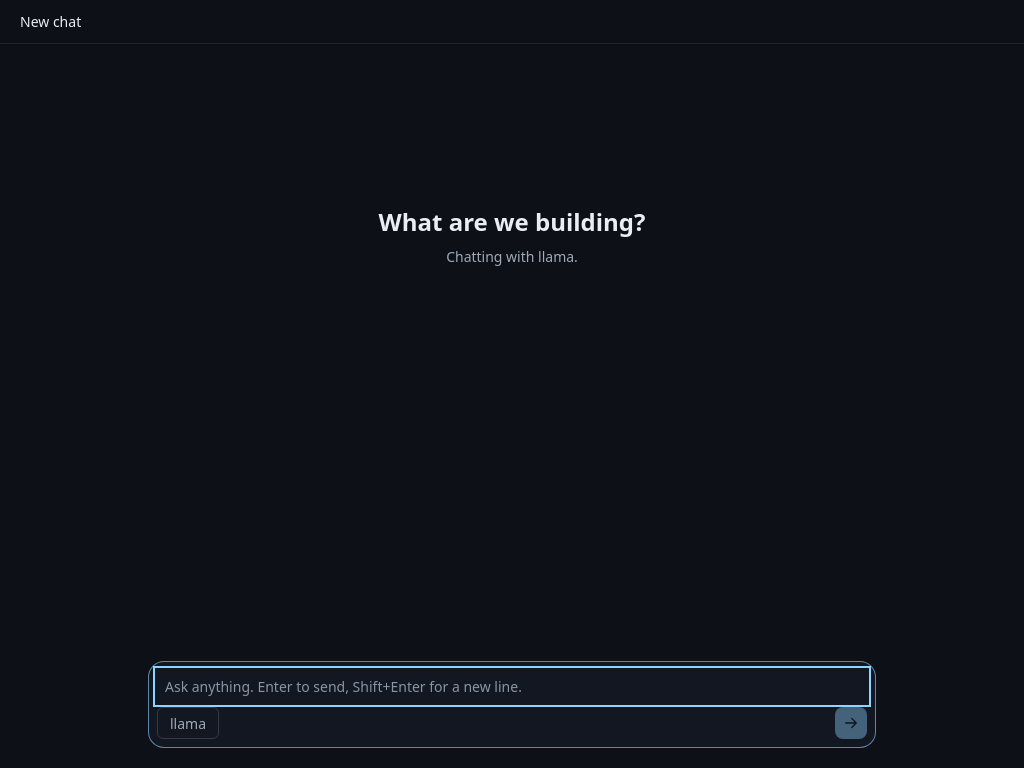
Test: Chat › shows provider errors and keeps partial text
Type "go" into the text box named "Message".
click(512, 686); type("go")  # box [157,670,867,703]
Then press Enter
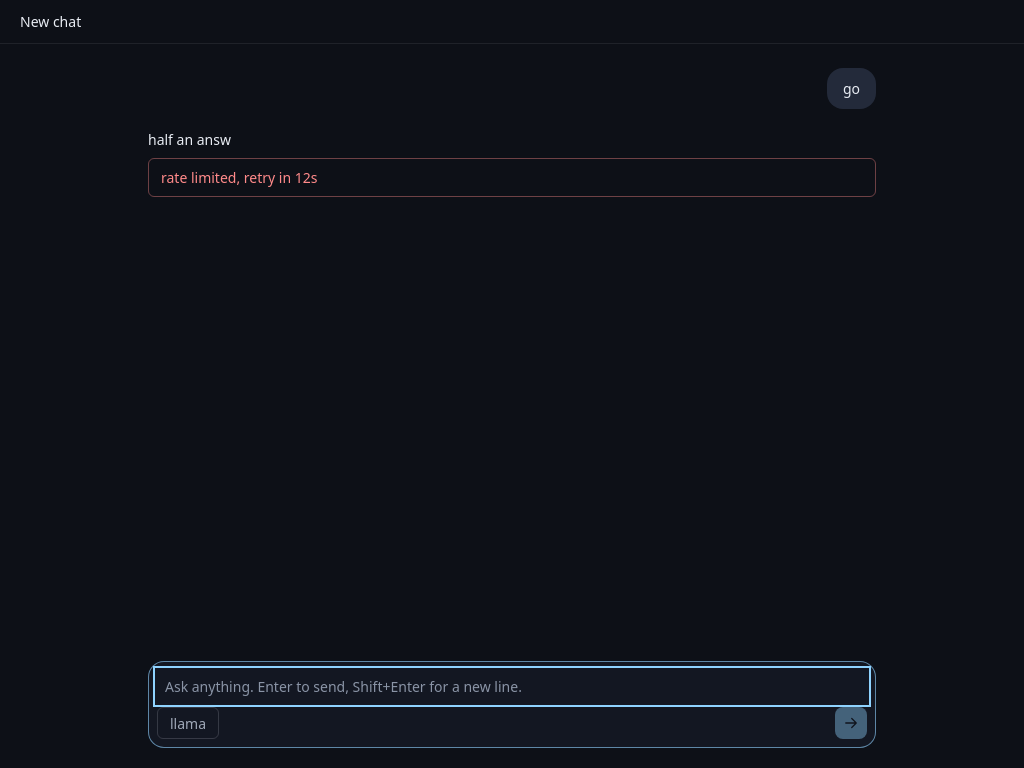
Expected: the text "half an answ" is shown, [148,130,231,149]
Expected: the messages read "rate limited, retry in 12s", in this order, [148,158,876,197]
